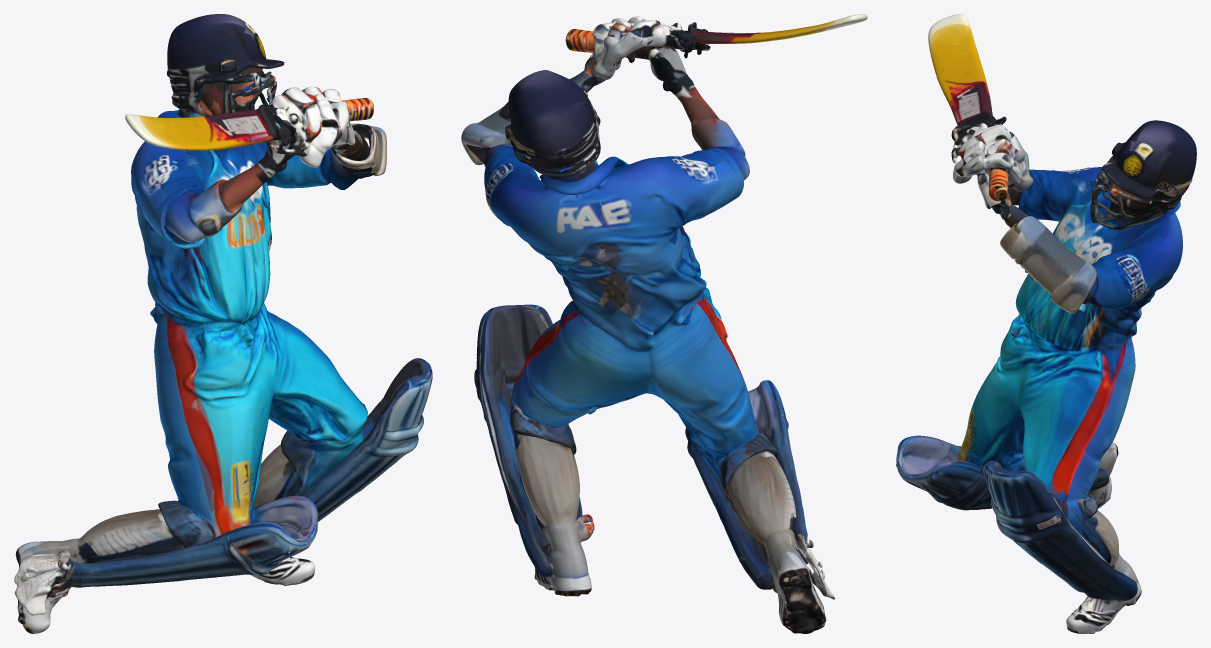
The model's file is upper-cut.glb.
3 renders of one model, left to right at view 1: azimuth 30°, elevation 25°; view 2: azimuth 150°, elevation 25°; view 3: azimuth 270°, elevation 25°, orthographic. The views are drawn at different scales.
Visible parts, largest first — view 1: tripo_node_477b5973-abd2-47d6-b01a-13916a72c3eb; view 2: tripo_node_477b5973-abd2-47d6-b01a-13916a72c3eb; view 3: tripo_node_477b5973-abd2-47d6-b01a-13916a72c3eb.
Part boxes in pixels (box(x1,y1,x2,y2)): tripo_node_477b5973-abd2-47d6-b01a-13916a72c3eb: box(14, 14, 432, 633); tripo_node_477b5973-abd2-47d6-b01a-13916a72c3eb: box(461, 14, 867, 633); tripo_node_477b5973-abd2-47d6-b01a-13916a72c3eb: box(896, 14, 1196, 633).
Bounding box in the file's own units: 0.694 × 1 × 0.5307.
Materials: 1 (1 with a texture image).
